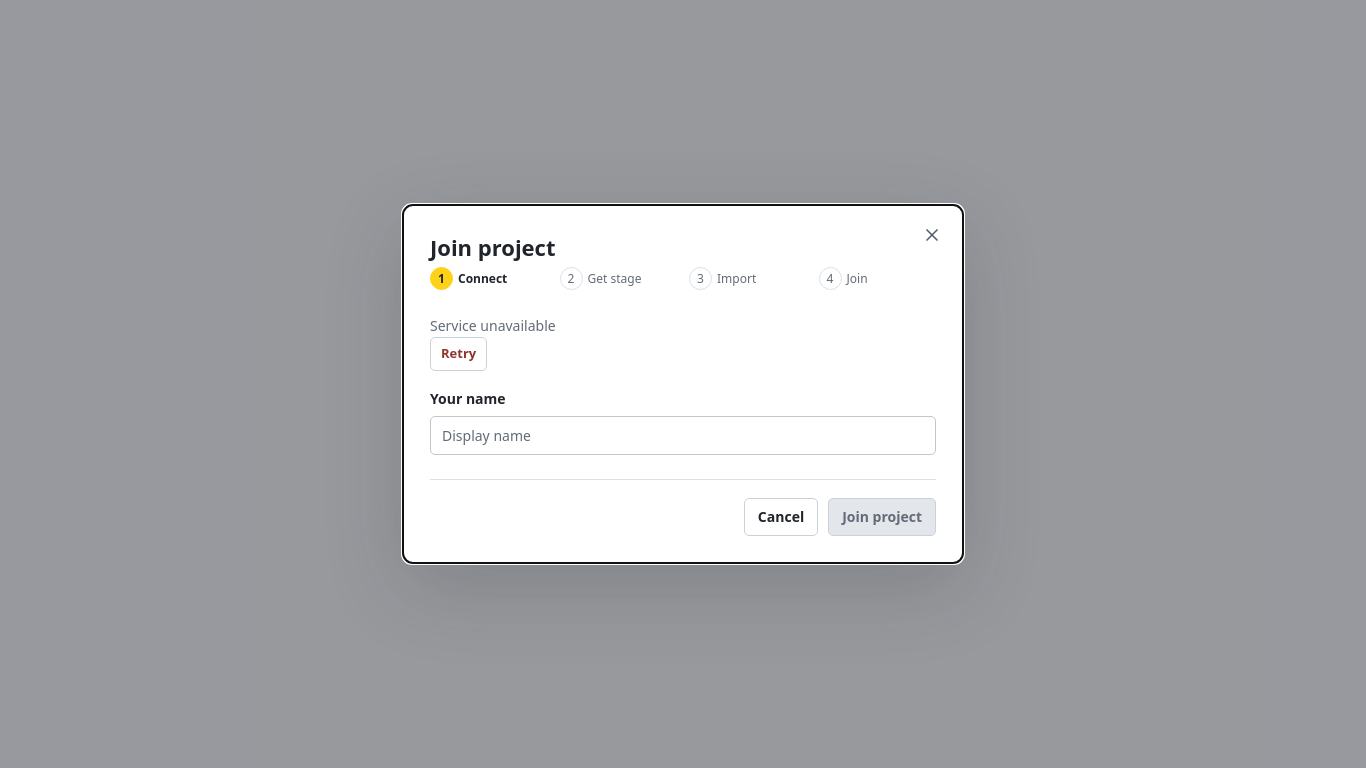
Test case: blocks unresolved invitations, retries in place and preserves the entered name
Expected: the message shows "Service unavailable", [430, 316, 556, 335]
Step 1. Type "Robin" into the field with placeholder "Display name" → (683, 435), box [430, 416, 936, 455]
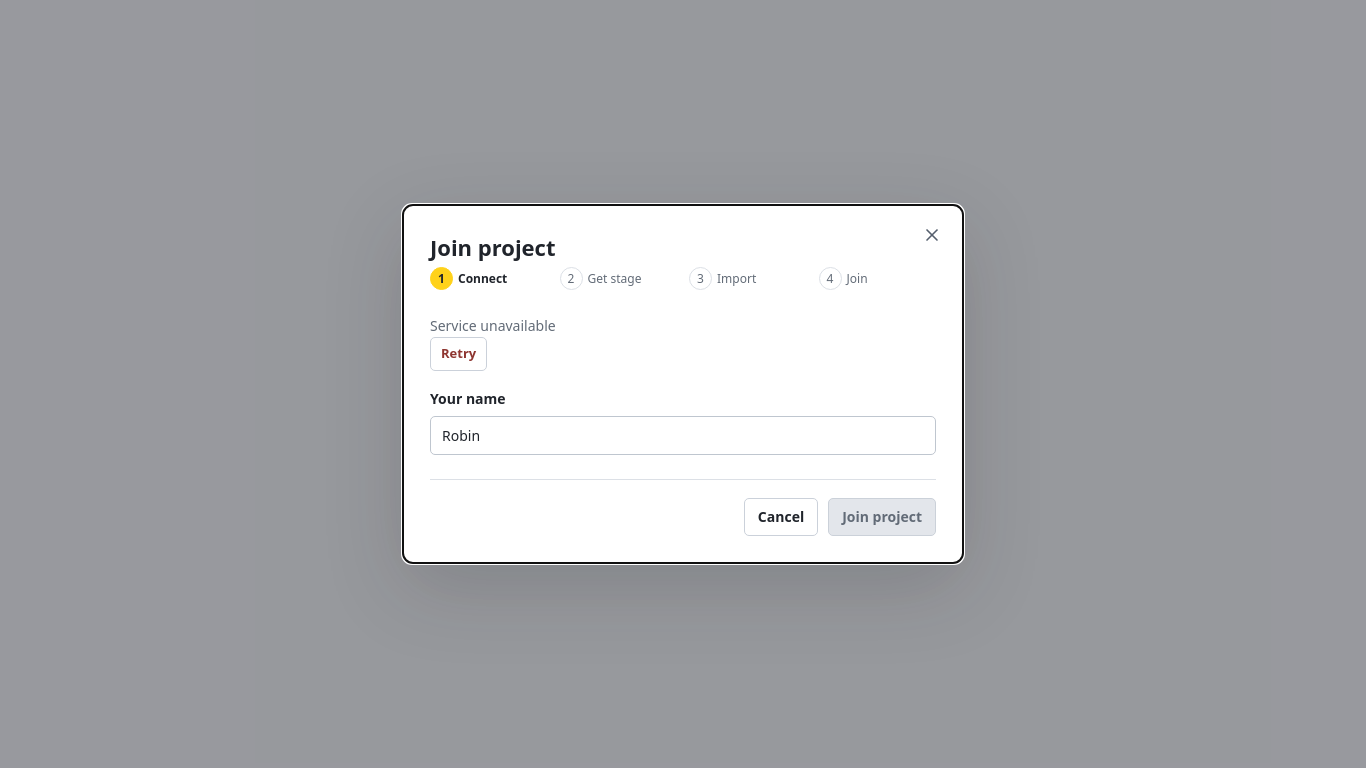
Expected: the button "Join project" is disabled, [828, 498, 936, 536]
Step 2. Click the button "Retry" → (459, 354), box [430, 337, 487, 371]
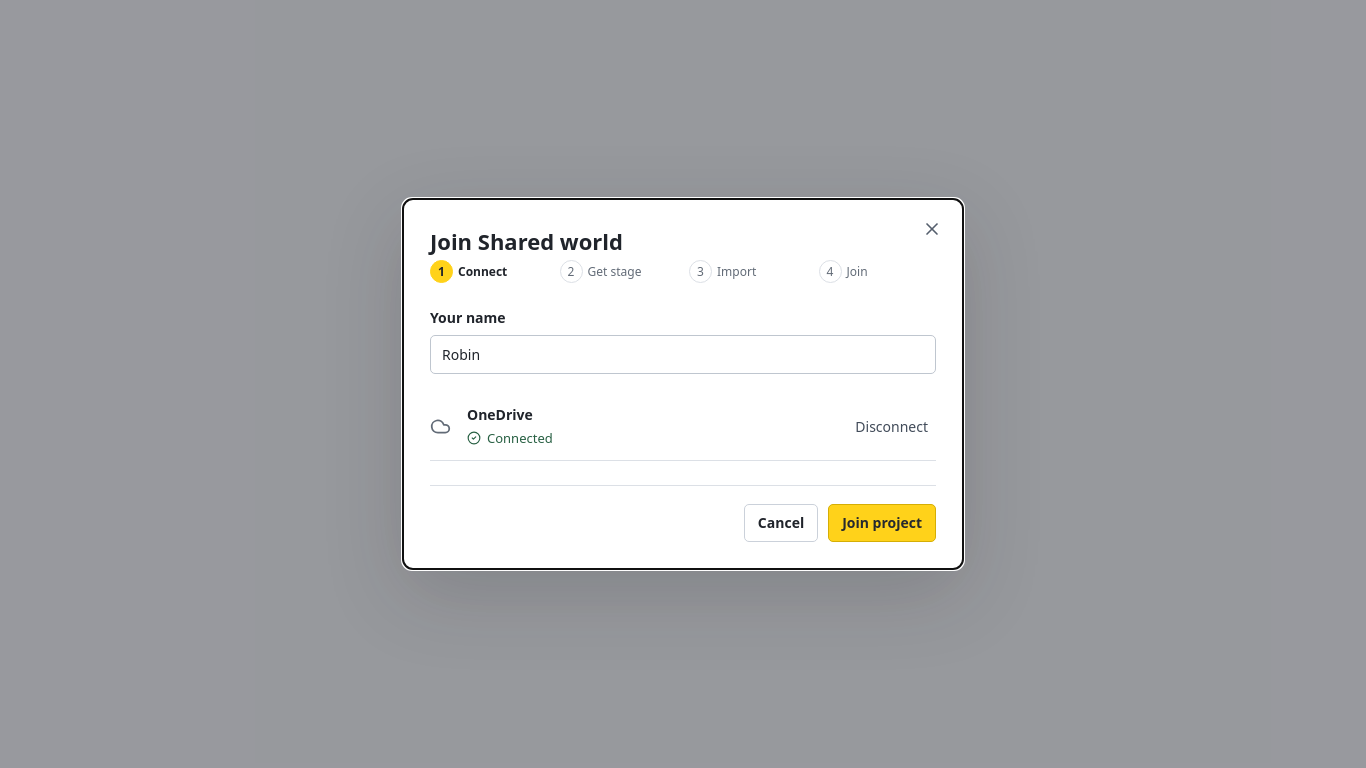
Expected: the dialog "Join Shared world" is shown, [403, 199, 963, 569]
Expected: the button "Join project" is enabled, [828, 504, 936, 542]
